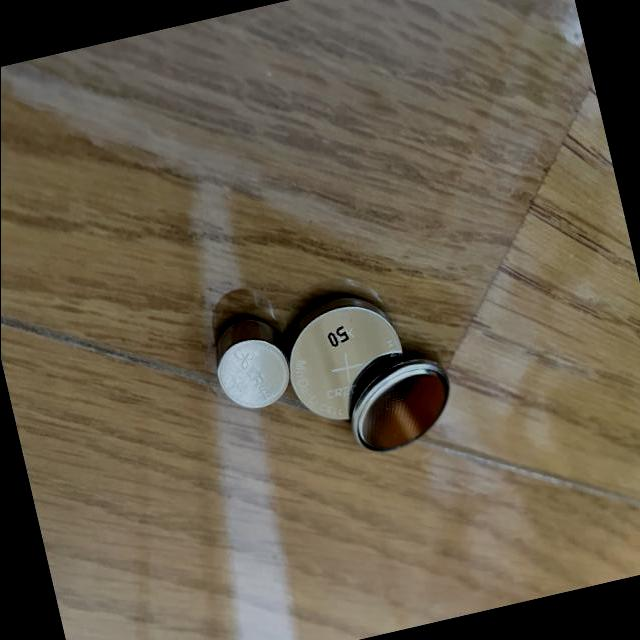COIN: (274, 286, 417, 431), (337, 344, 462, 458), (203, 308, 296, 418)
